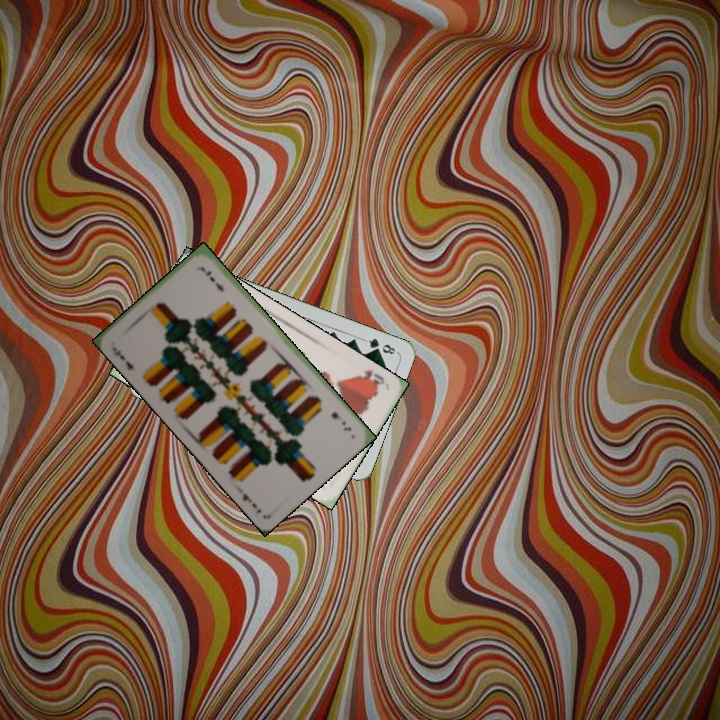E7: (108, 343, 136, 373), (327, 408, 354, 434)
G8: (361, 334, 400, 357)
HO: (355, 365, 387, 390)
